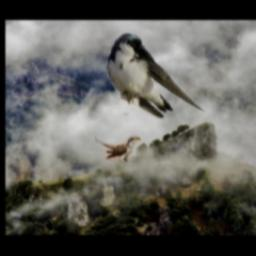Cuckoo: (94, 135, 140, 162)
Swallow: (106, 32, 206, 120)
